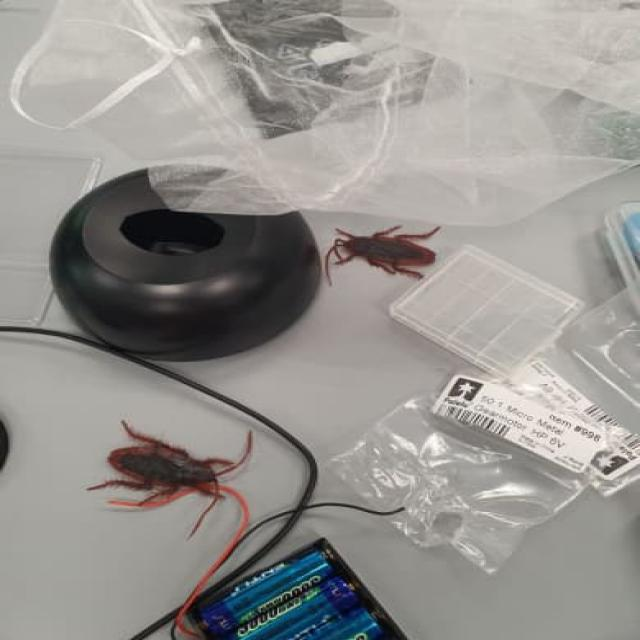Cockroach: (80, 408, 261, 522), (322, 217, 444, 293)
